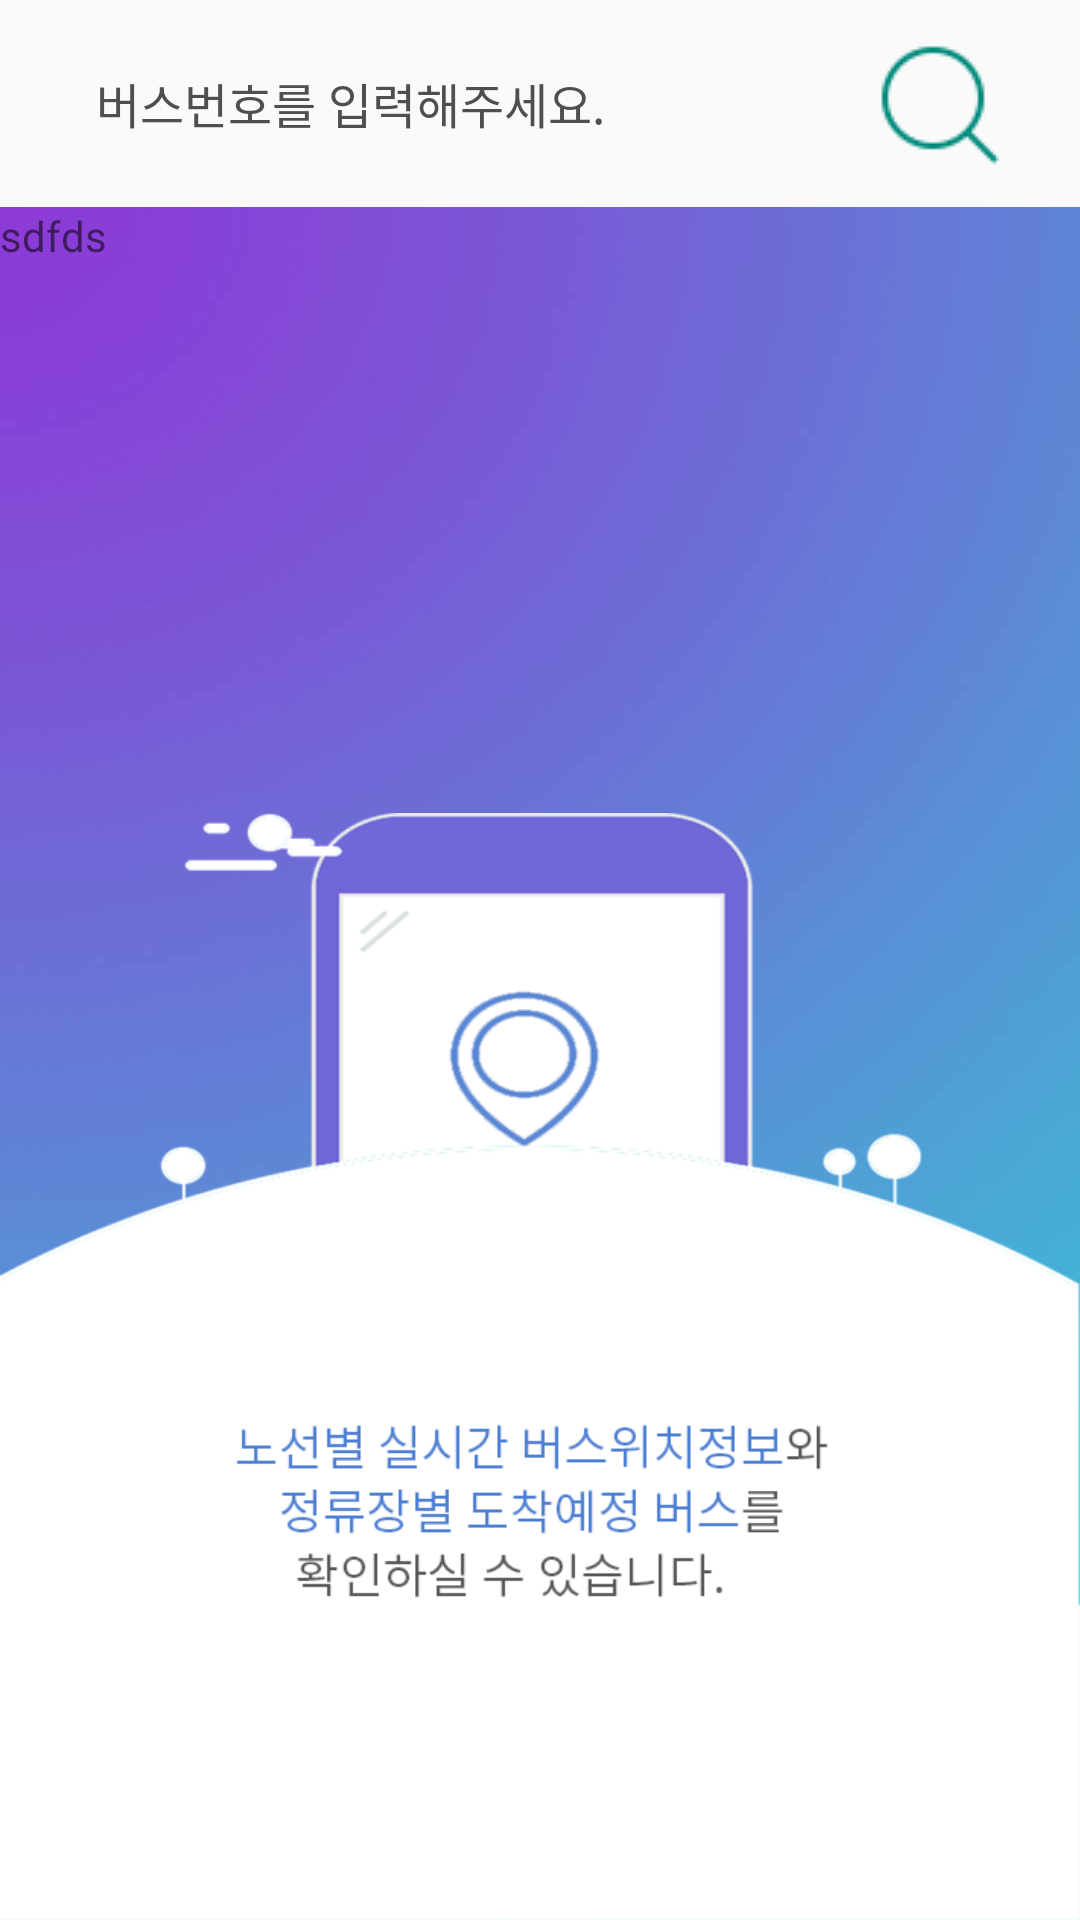

Icons on this 1080x1920 Android screen, each with the point to tap as (x=x, y=y):
magnifier: (x=940, y=105)
